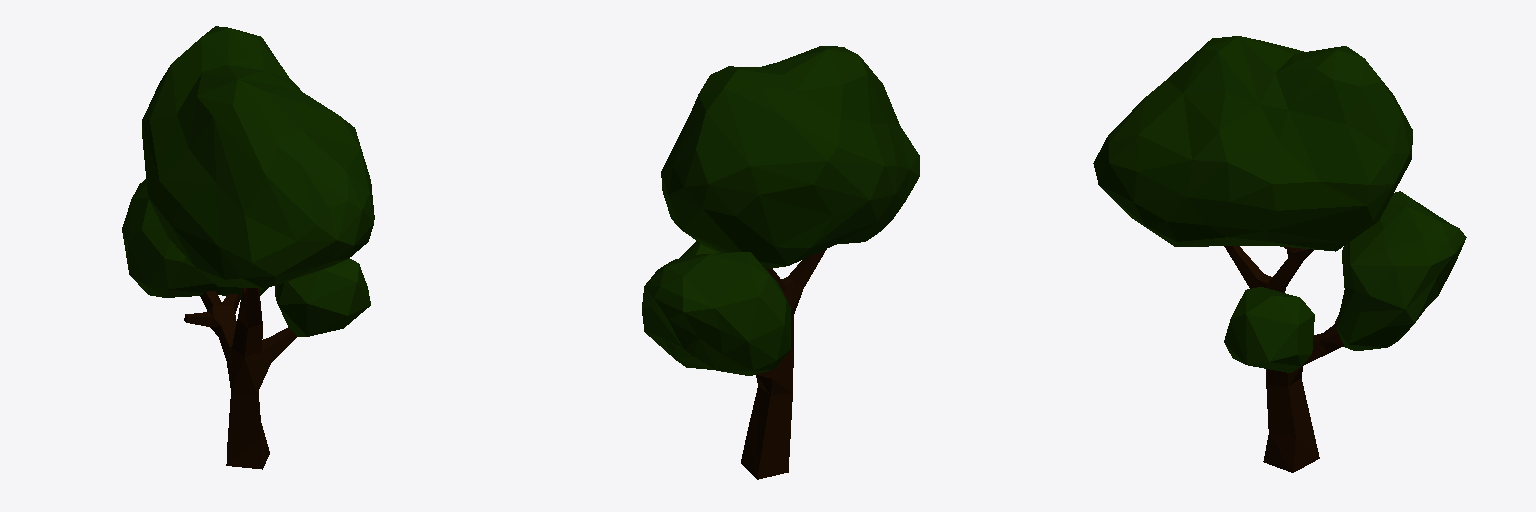
The model's file is mytree1.obj.
3 renders of one model, left to right at view 1: azimuth 30°, elevation 25°; view 2: azimuth 150°, elevation 25°; view 3: azimuth 270°, elevation 25°, orthographic.
Visible parts, largest first — view 1: Tree1_1_Cube.015; view 2: Tree1_1_Cube.015; view 3: Tree1_1_Cube.015.
Part boxes in pixels (x1,y1,x2,y2): Tree1_1_Cube.015: (122,26,374,469); Tree1_1_Cube.015: (642,46,919,479); Tree1_1_Cube.015: (1093,36,1466,472).
Bounding box in the file's own units: 10.28 × 19.04 × 15.56.